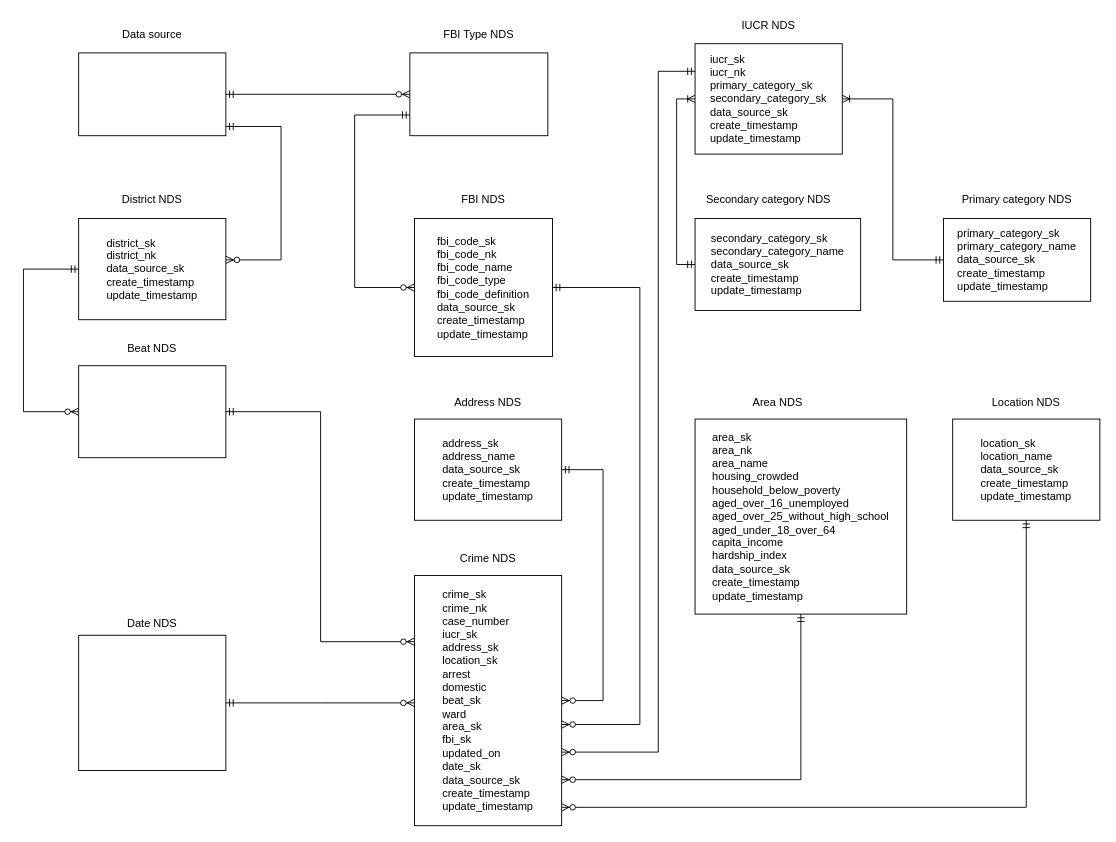
This 1116x842 diagram has some shape labels left out. The shapes that lost their labels are listed below. From the top down, each one's centre as x and y in pixels, then its label:
At (152,94): "data_source_sk data_source_name create_timestamp update_timestamp".
At (478,94): "fbi_type_sk fbi_type_name data_source_sk create_timestamp update_timestamp".
At (152,411): "beat_sk beat_nk district_sk data_source_sk create_timestamp update_timestamp".
At (152,702): "date_sk date_nk day month year data_source_sk create_timestamp update_timestamp".
